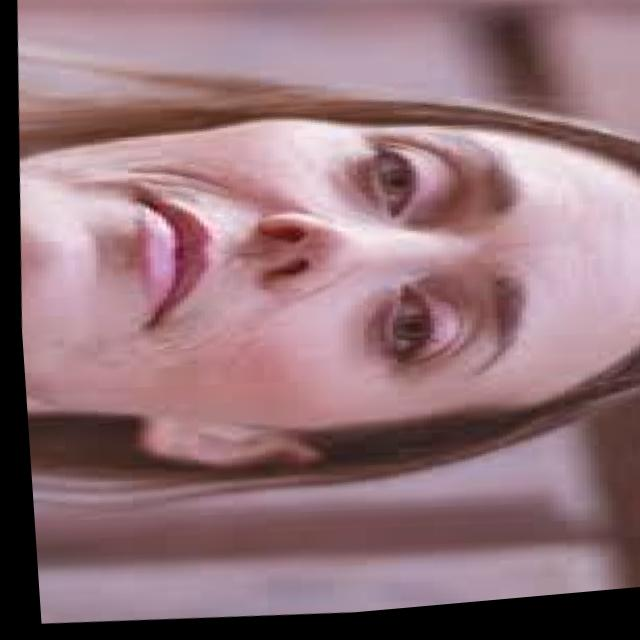Wrinkles: (120, 169, 231, 209)
